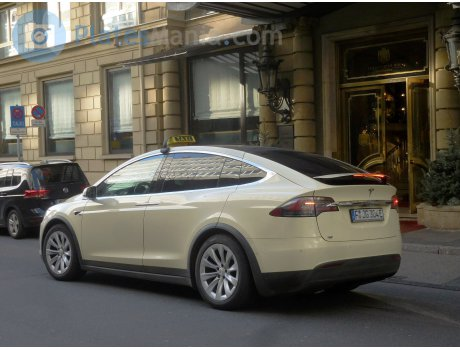License Plates: (351, 205, 393, 216)
